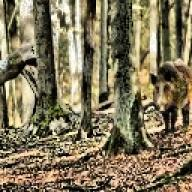boar: (147, 57, 192, 132)
